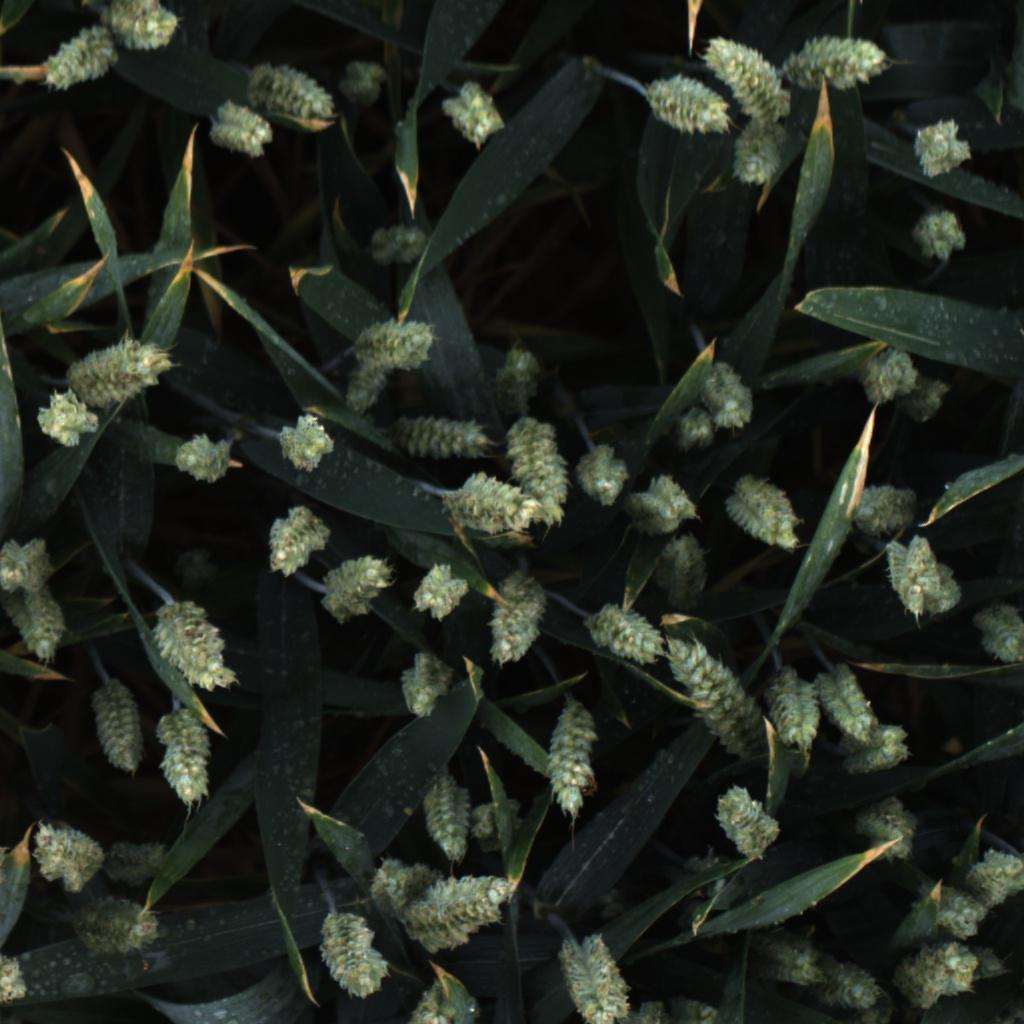0-0: (663, 621, 766, 758), (56, 326, 175, 419), (150, 585, 240, 698), (408, 870, 515, 960), (697, 32, 787, 130), (536, 694, 602, 827), (475, 566, 552, 672), (438, 468, 541, 547), (17, 810, 114, 893), (637, 60, 732, 144), (548, 926, 628, 1024), (702, 773, 785, 865), (311, 906, 391, 1000), (891, 934, 983, 1015), (783, 27, 894, 94), (244, 56, 343, 131), (389, 408, 501, 473), (720, 470, 805, 555), (34, 24, 125, 101), (154, 708, 222, 811), (507, 413, 570, 522), (882, 538, 965, 618), (717, 113, 796, 195), (80, 684, 150, 776), (848, 791, 930, 869), (320, 544, 396, 628), (584, 594, 666, 670), (64, 891, 164, 953), (416, 758, 475, 863), (264, 499, 337, 583), (903, 108, 982, 185), (809, 948, 889, 1024), (435, 72, 510, 152), (617, 465, 698, 538), (389, 641, 460, 722), (898, 199, 975, 273), (840, 477, 928, 541), (198, 92, 277, 163), (355, 306, 436, 375), (697, 362, 769, 439), (749, 921, 828, 991), (273, 404, 346, 479), (822, 655, 884, 743), (486, 331, 547, 418), (652, 529, 717, 610), (1, 585, 64, 667), (94, 0, 188, 54), (916, 874, 991, 941), (766, 663, 823, 751), (30, 386, 104, 453), (846, 343, 918, 410), (834, 724, 925, 777), (164, 430, 242, 490), (895, 531, 947, 620), (355, 851, 425, 917), (568, 436, 629, 509), (98, 831, 173, 889), (403, 971, 484, 1024), (359, 220, 441, 270), (413, 553, 471, 623), (965, 835, 1024, 902), (334, 56, 398, 113), (335, 363, 391, 428), (972, 598, 1024, 668), (460, 792, 531, 843), (662, 398, 723, 457), (0, 533, 51, 603), (677, 844, 733, 904), (902, 374, 959, 430), (622, 995, 728, 1024), (0, 943, 34, 1015), (968, 944, 1010, 988), (776, 86, 797, 125)
